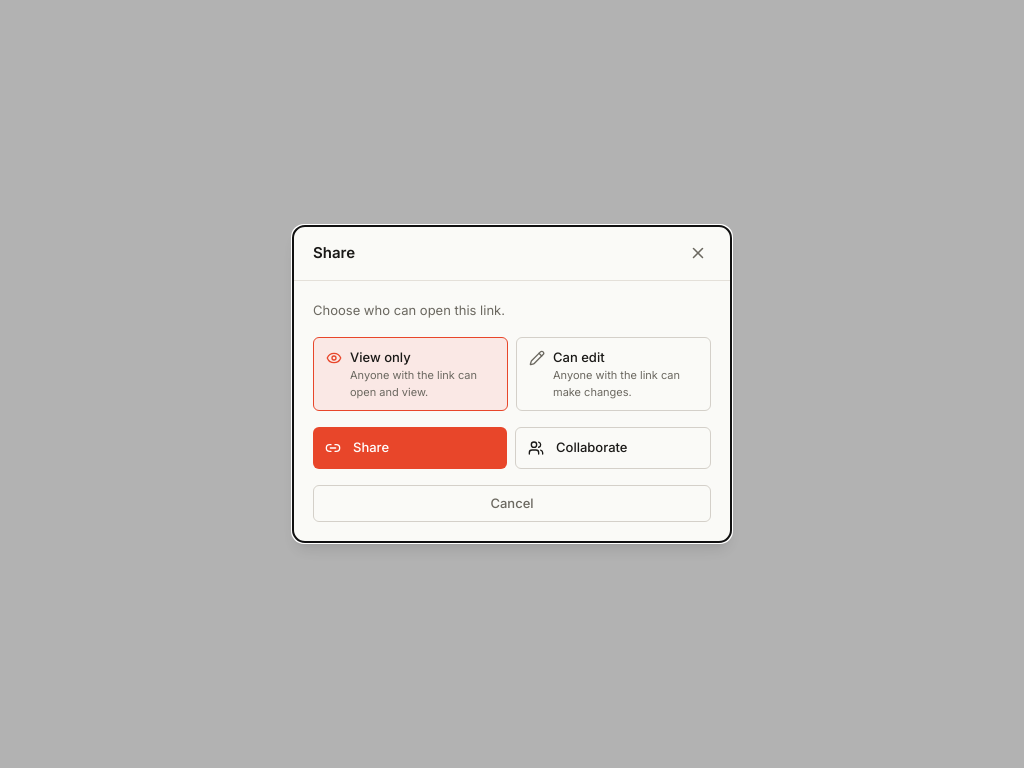
ShareModal › switches the underlying permission when the radio changes
Expected: the radio button labelled "View only Anyone with the link can open and view." is checked, [313,336,508,411]
Click the radio button labelled "Can edit Anyone with the link can make changes." at (614, 374), box [516,336,711,411]
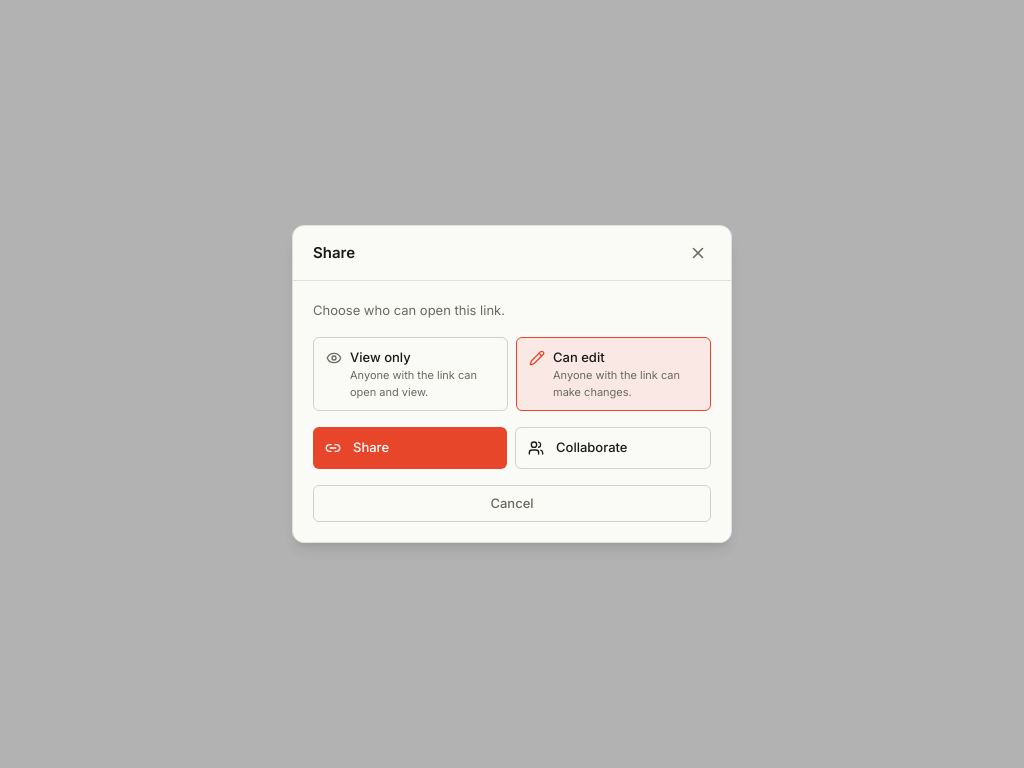
Expected: the radio button labelled "Can edit Anyone with the link can make changes." is checked, [516,336,711,411]
Expected: the radio button labelled "View only Anyone with the link can open and view." is not checked, [313,336,508,411]
